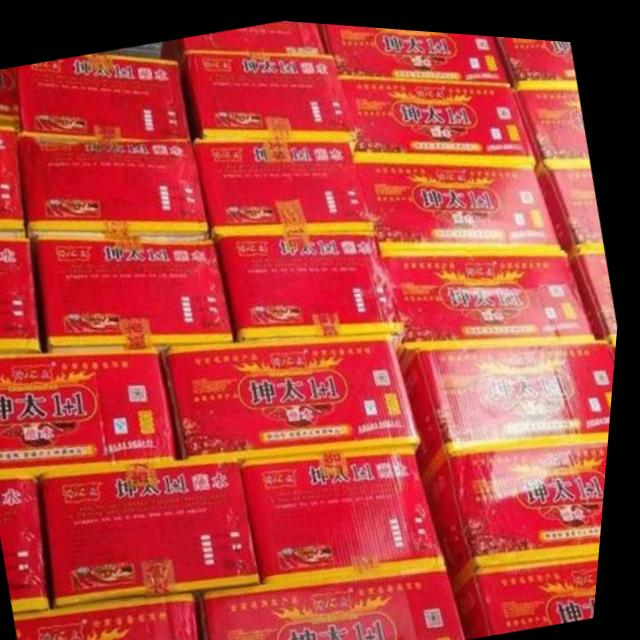box: (165, 325, 430, 458), (47, 450, 270, 605), (404, 329, 620, 471), (247, 438, 456, 583), (428, 425, 615, 580), (384, 242, 600, 357), (38, 229, 240, 350), (0, 343, 186, 473), (219, 224, 409, 346), (205, 558, 476, 640), (18, 131, 212, 229), (356, 155, 569, 243), (194, 132, 378, 232), (340, 69, 539, 156), (179, 47, 359, 136), (15, 50, 193, 136), (461, 542, 608, 631), (315, 18, 514, 75), (23, 589, 208, 640), (0, 471, 65, 609), (511, 71, 592, 168), (159, 16, 324, 58), (537, 152, 606, 243), (0, 228, 50, 353), (572, 234, 622, 333), (497, 29, 577, 75), (0, 124, 29, 229), (0, 67, 22, 132)
